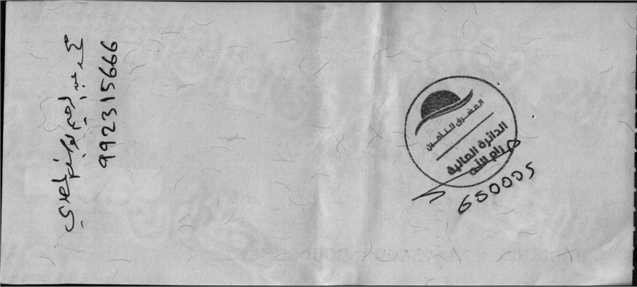stamp: (403, 75, 519, 189)
